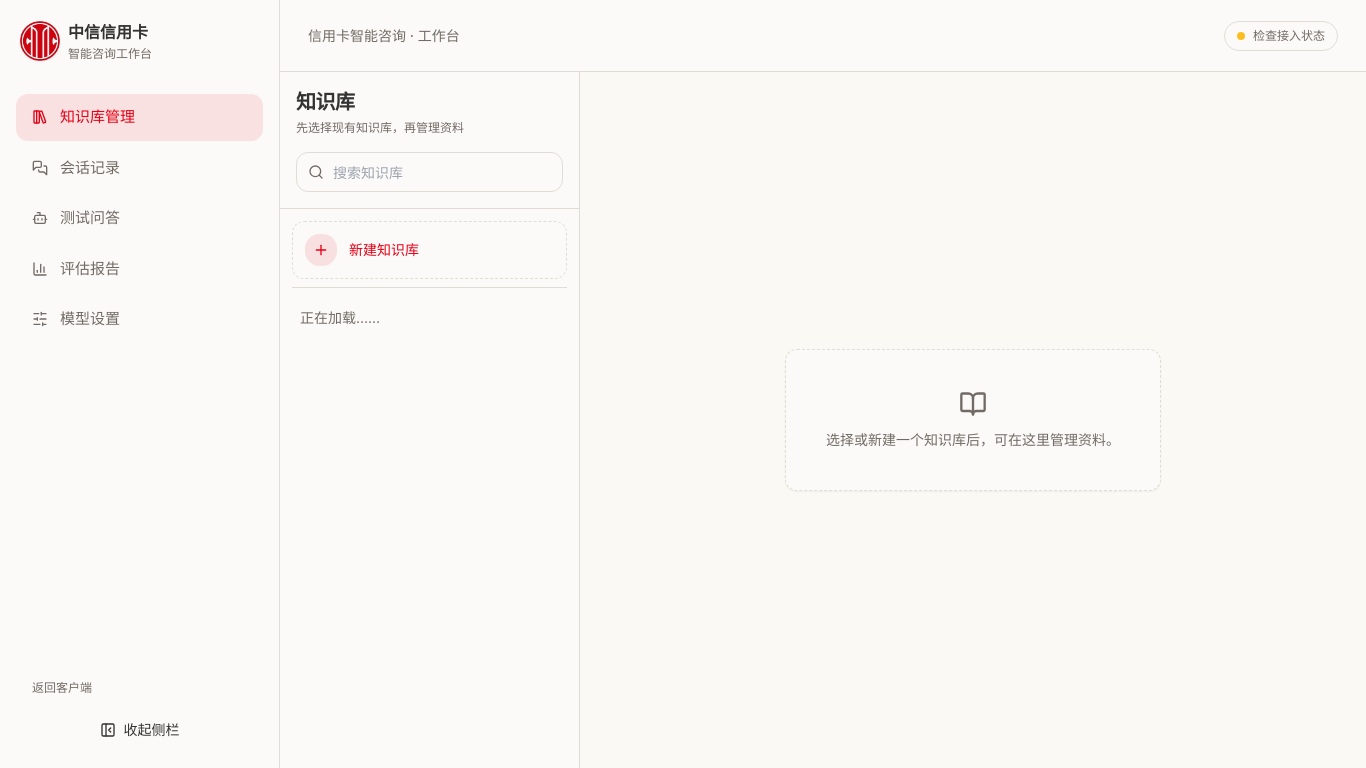
App › collapses and expands the desktop sidebar
The width and height of the screenshot is (1366, 768).
Step 1. Click the button labelled "收起侧栏" → (140, 730), box [16,712,263,748]
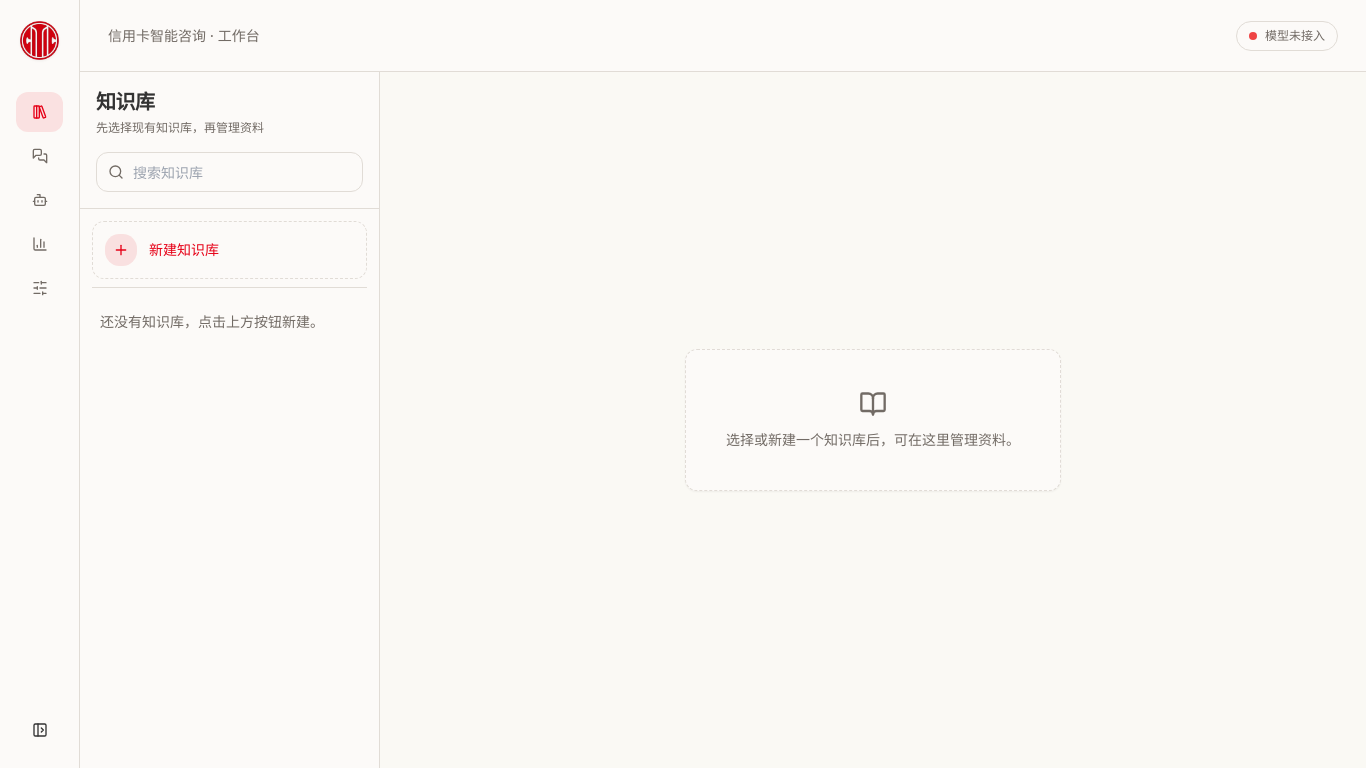
Expected: the button named "展开侧栏" is shown, [16,712,63,748]
